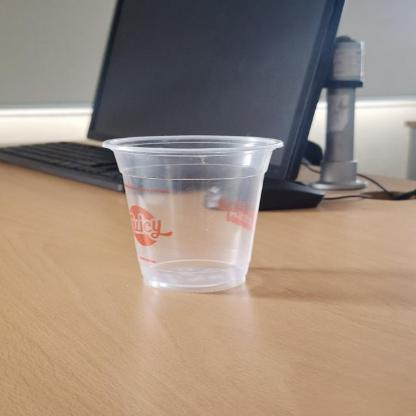Plastic Cup: (100, 135, 284, 292)
